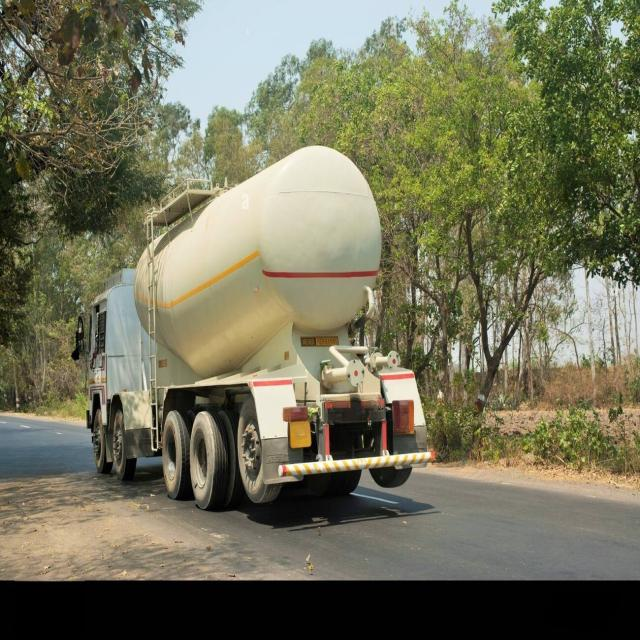truck: (80, 146, 432, 509)
